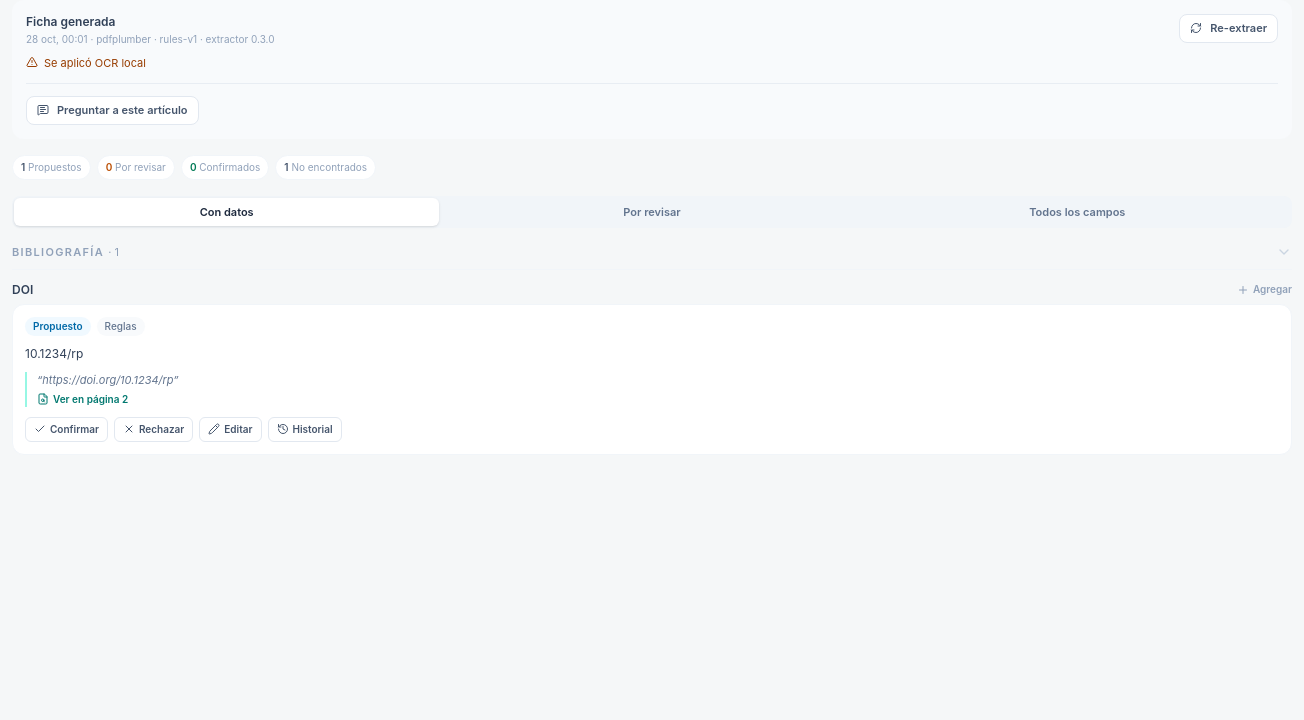
MasterRecordPanel › hides not-found fields by default and explains them when shown
Expected: the text "Aprobación ética" is not shown
Click the tab "Todos los campos": (1077, 212) [865,198,1290,226]
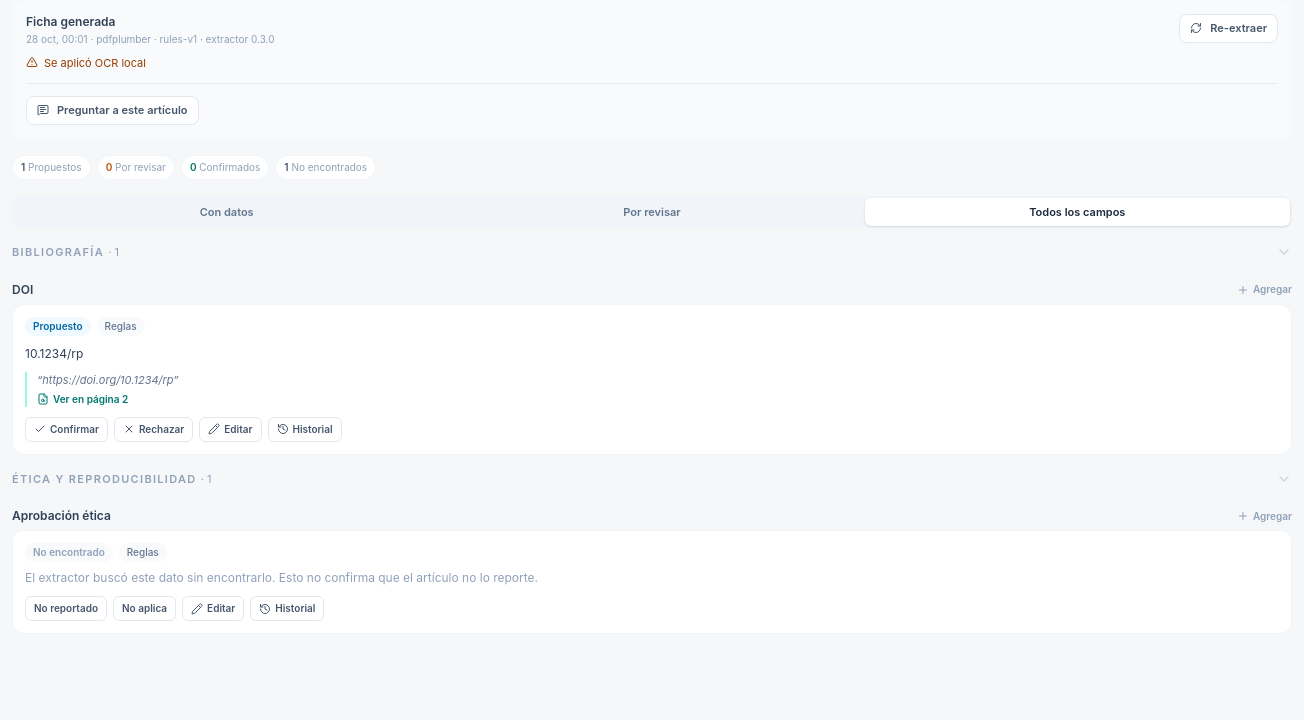
Expected: the heading "Aprobación ética" is shown, [12,508,111,524]
Expected: the text "no confirma que el artículo no lo reporte" is shown, [25,570,538,585]
Expected: the button "No reportado" is enabled, [25,596,107,621]
